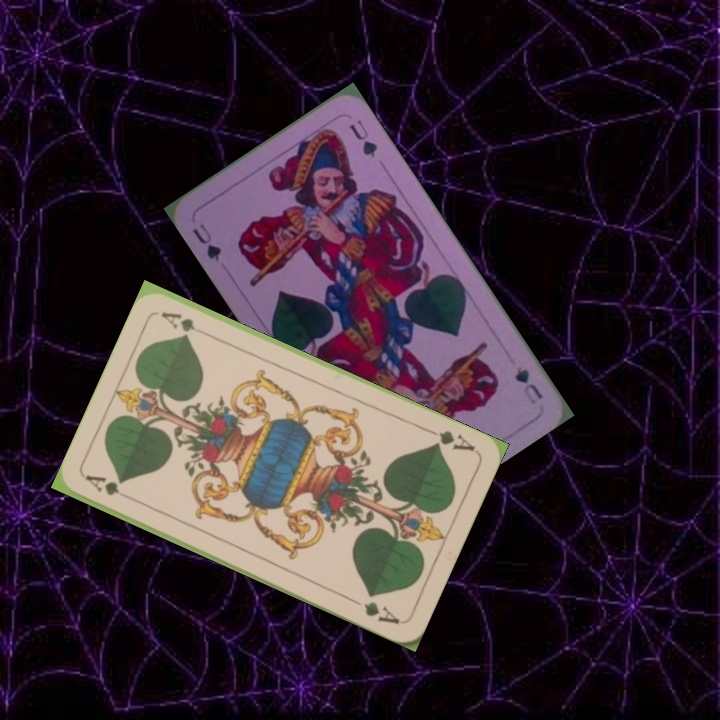GA: (82, 470, 138, 505), (421, 424, 478, 455)
GU: (188, 219, 225, 264), (510, 362, 546, 407)
